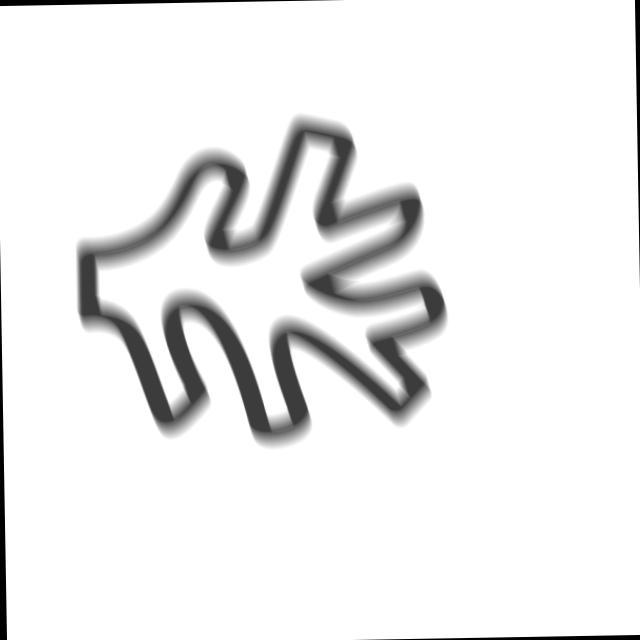coral: (64, 105, 457, 462)
